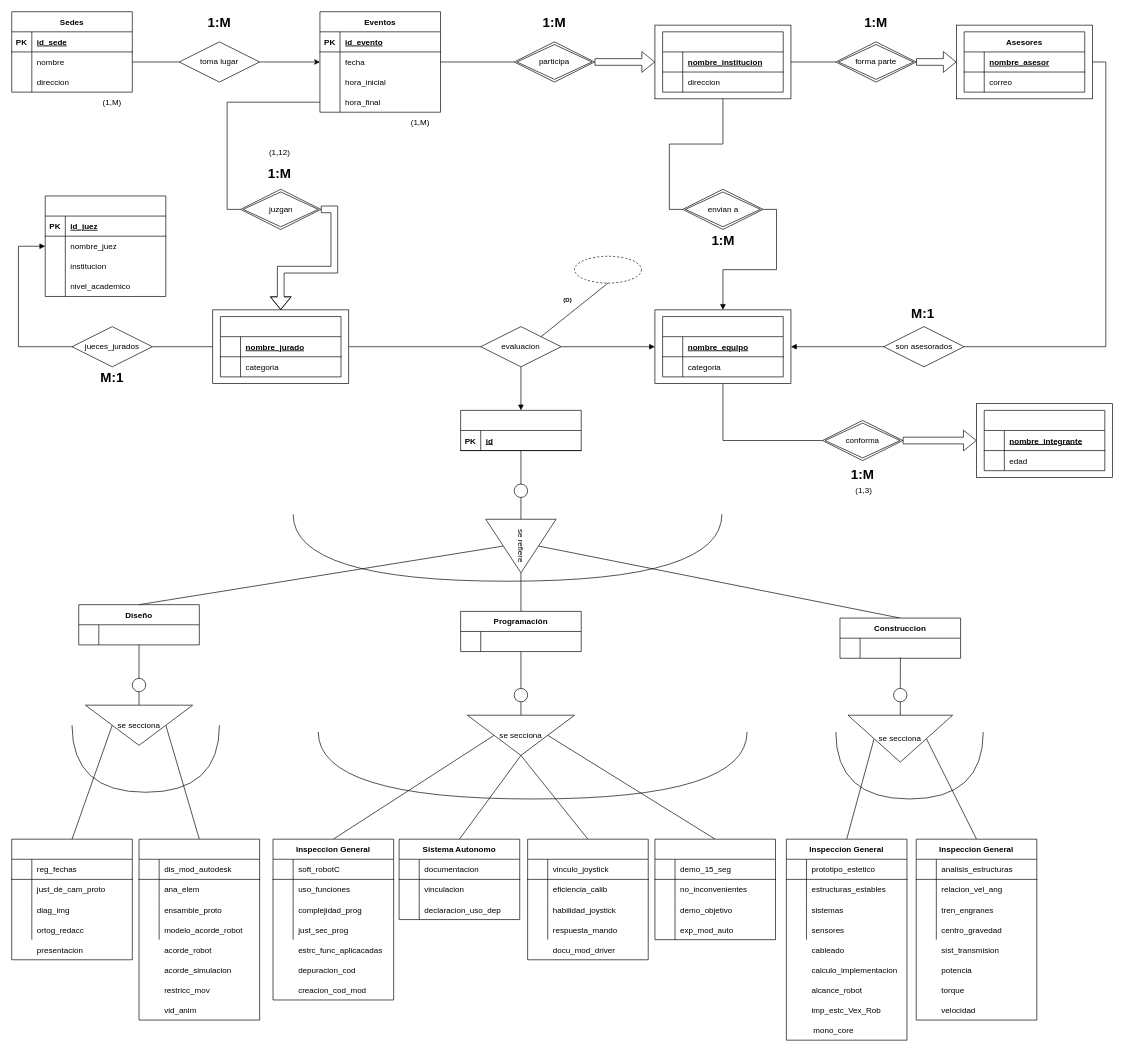
Image size: 1124x1052. Some labels were removed from this diagram. The box of each missing label's shape, as (x1, y1, x2, y2) in pixels:
Bitacora: (11, 839, 132, 960)
Calificacion: (574, 256, 642, 283)
Demostración: (654, 839, 776, 940)
Equipos: (662, 316, 783, 377)
Instituciones: (662, 31, 783, 92)
Integrantes: (984, 410, 1105, 471)
Jueces: (45, 195, 166, 296)
Jurados: (220, 316, 341, 377)
Medio Digital: (138, 839, 260, 1020)
Ponderaciones: (460, 410, 581, 451)
Sistema Manipulado: (527, 839, 648, 960)
